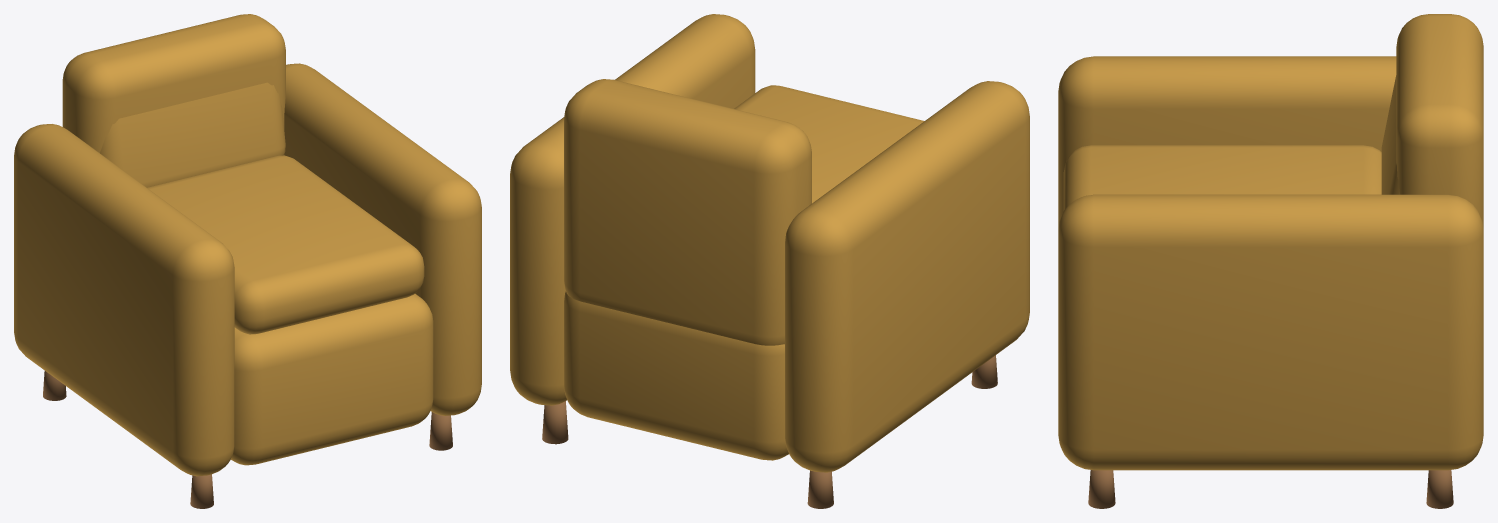
The model's file is butaca-coral.glb.
The picture shows the model from 3 angles, left to right: view 1: azimuth 30°, elevation 25°; view 2: azimuth 150°, elevation 25°; view 3: azimuth 270°, elevation 25°; orthographic projection. The views are drawn at different scales.
Parts seen in each view (by area): view 1: coral_brazo_-1, coral_brazo_1, coral_asiento, coral_base, coral_respaldo, coral_cojin, coral_pata_1_-1, coral_pata_-1_-1, coral_pata_-1_1; view 2: coral_brazo_-1, coral_respaldo, coral_base, coral_brazo_1, coral_asiento, coral_pata_1_1, coral_pata_-1_1, coral_pata_-1_-1; view 3: coral_brazo_1, coral_brazo_-1, coral_asiento, coral_respaldo, coral_cojin, coral_pata_1_1, coral_pata_1_-1.
Part boxes in pixels (box(x1,y1,x2,y2)): coral_brazo_-1: box(14, 124, 234, 476); coral_brazo_1: box(284, 63, 481, 415); coral_asiento: box(147, 155, 424, 334); coral_base: box(231, 293, 433, 465); coral_respaldo: box(62, 14, 285, 152); coral_cojin: box(100, 82, 285, 187); coral_pata_1_-1: box(429, 412, 452, 450); coral_pata_-1_-1: box(190, 474, 213, 508); coral_pata_-1_1: box(43, 371, 66, 400); coral_brazo_-1: box(784, 81, 1029, 472); coral_respaldo: box(564, 79, 811, 345); coral_base: box(564, 291, 788, 460); coral_brazo_1: box(510, 14, 755, 405); coral_asiento: box(734, 85, 924, 203); coral_pata_1_1: box(542, 401, 568, 444); coral_pata_-1_1: box(807, 470, 833, 508); coral_pata_-1_-1: box(971, 355, 997, 388); coral_brazo_1: box(1058, 194, 1483, 470); coral_brazo_-1: box(1058, 56, 1396, 228); coral_asiento: box(1063, 145, 1381, 210); coral_respaldo: box(1396, 14, 1483, 228); coral_cojin: box(1381, 75, 1399, 194); coral_pata_1_1: box(1426, 470, 1453, 508); coral_pata_1_-1: box(1088, 470, 1115, 508).
Size of the model in its own units: 0.74 by 0.76 by 0.78.
